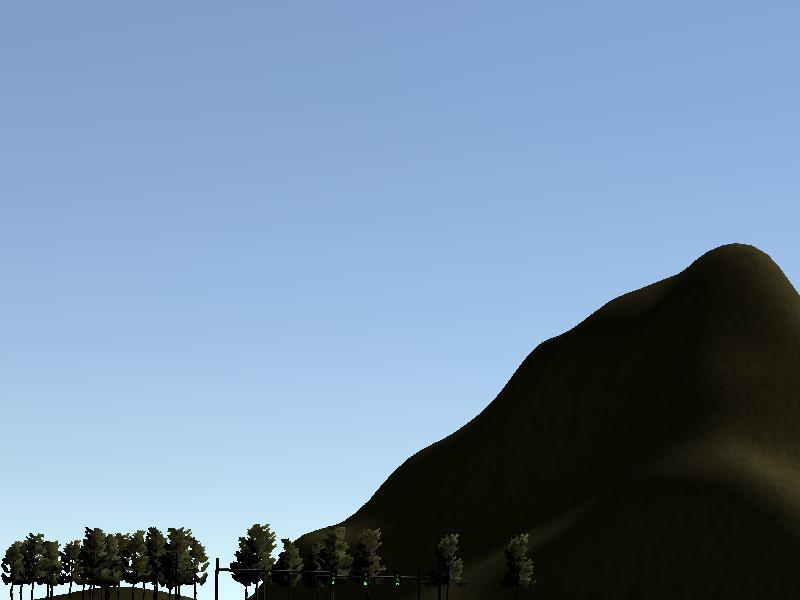Green: (327, 567, 339, 588), (361, 572, 370, 590), (393, 574, 400, 588)
